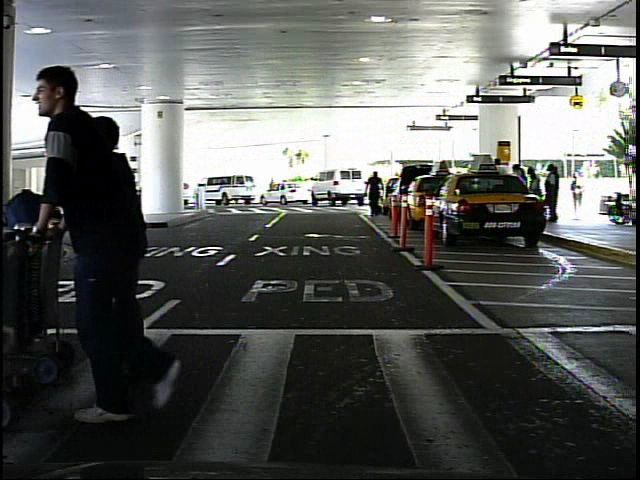person: (42, 50, 198, 429), (362, 167, 387, 223), (571, 172, 590, 218), (109, 173, 127, 211)
